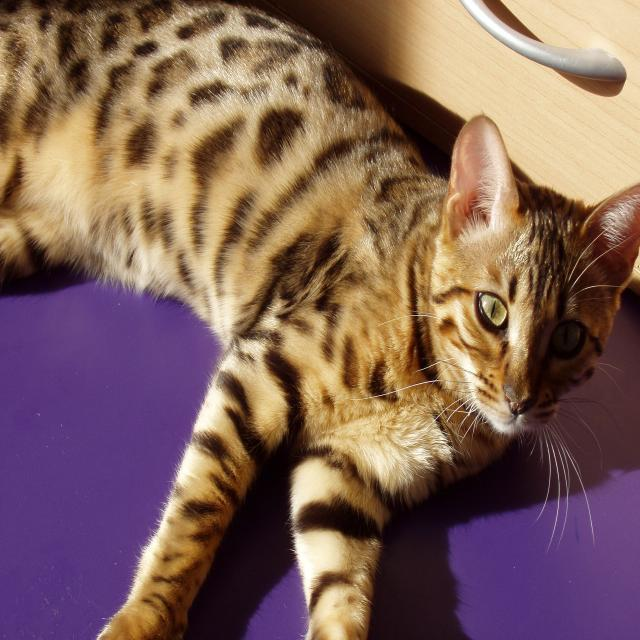Egyptian_Mau: (429, 113, 639, 436)
